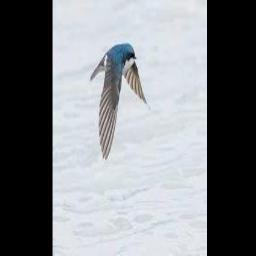Swallow: (89, 42, 149, 158)
